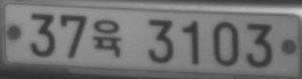0: (213, 21, 238, 66)
1: (182, 21, 200, 64)
3: (245, 22, 272, 66), (148, 18, 173, 63), (30, 12, 54, 56)
7: (59, 13, 86, 58)
육: (92, 18, 121, 57)
